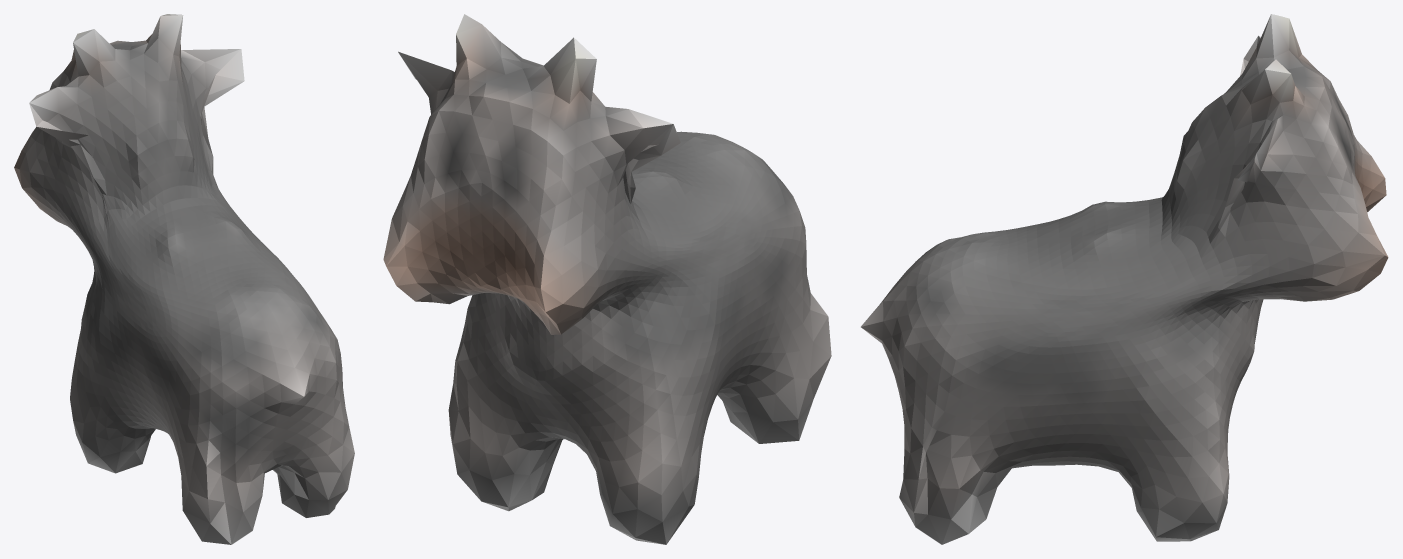
The model's file is colored_mesh_iter_0850.obj.
3 renders of one model, left to right at view 1: azimuth 30°, elevation 25°; view 2: azimuth 150°, elevation 25°; view 3: azimuth 270°, elevation 25°, orthographic. The views are drawn at different scales.
Bounding box in the file's own units: 1.08 × 1.98 × 1.98.
